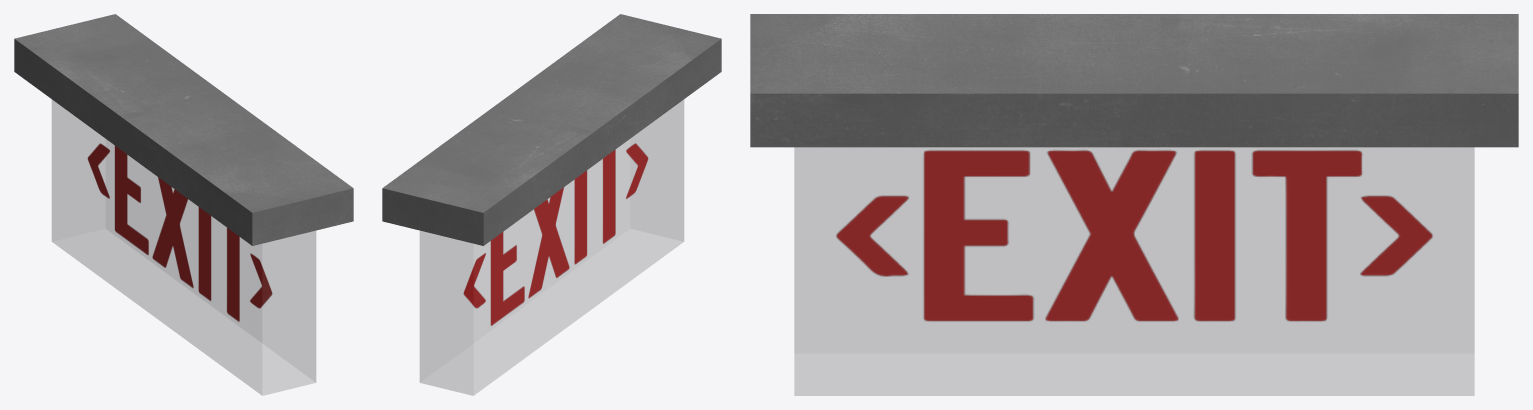
Rendered from exit_sign.glb.
The picture shows the model from 3 angles, left to right: view 1: azimuth 30°, elevation 25°; view 2: azimuth 150°, elevation 25°; view 3: azimuth 270°, elevation 25°; orthographic projection. The views are drawn at different scales.
Parts seen in each view (by area): view 1: main_0, base_1; view 2: main_0, base_1; view 3: main_0, base_1.
Part boxes in pixels (x1=…): main_0: x1=52, y1=100, x2=315, y2=395; base_1: x1=14, y1=14, x2=353, y2=245; main_0: x1=420, y1=100, x2=683, y2=395; base_1: x1=382, y1=14, x2=721, y2=245; main_0: x1=794, y1=147, x2=1474, y2=395; base_1: x1=750, y1=14, x2=1518, y2=147.
Bounding box in the file's own units: 0.1278 × 0.24 × 0.5208.
Materials: 4 (3 with a texture image).
